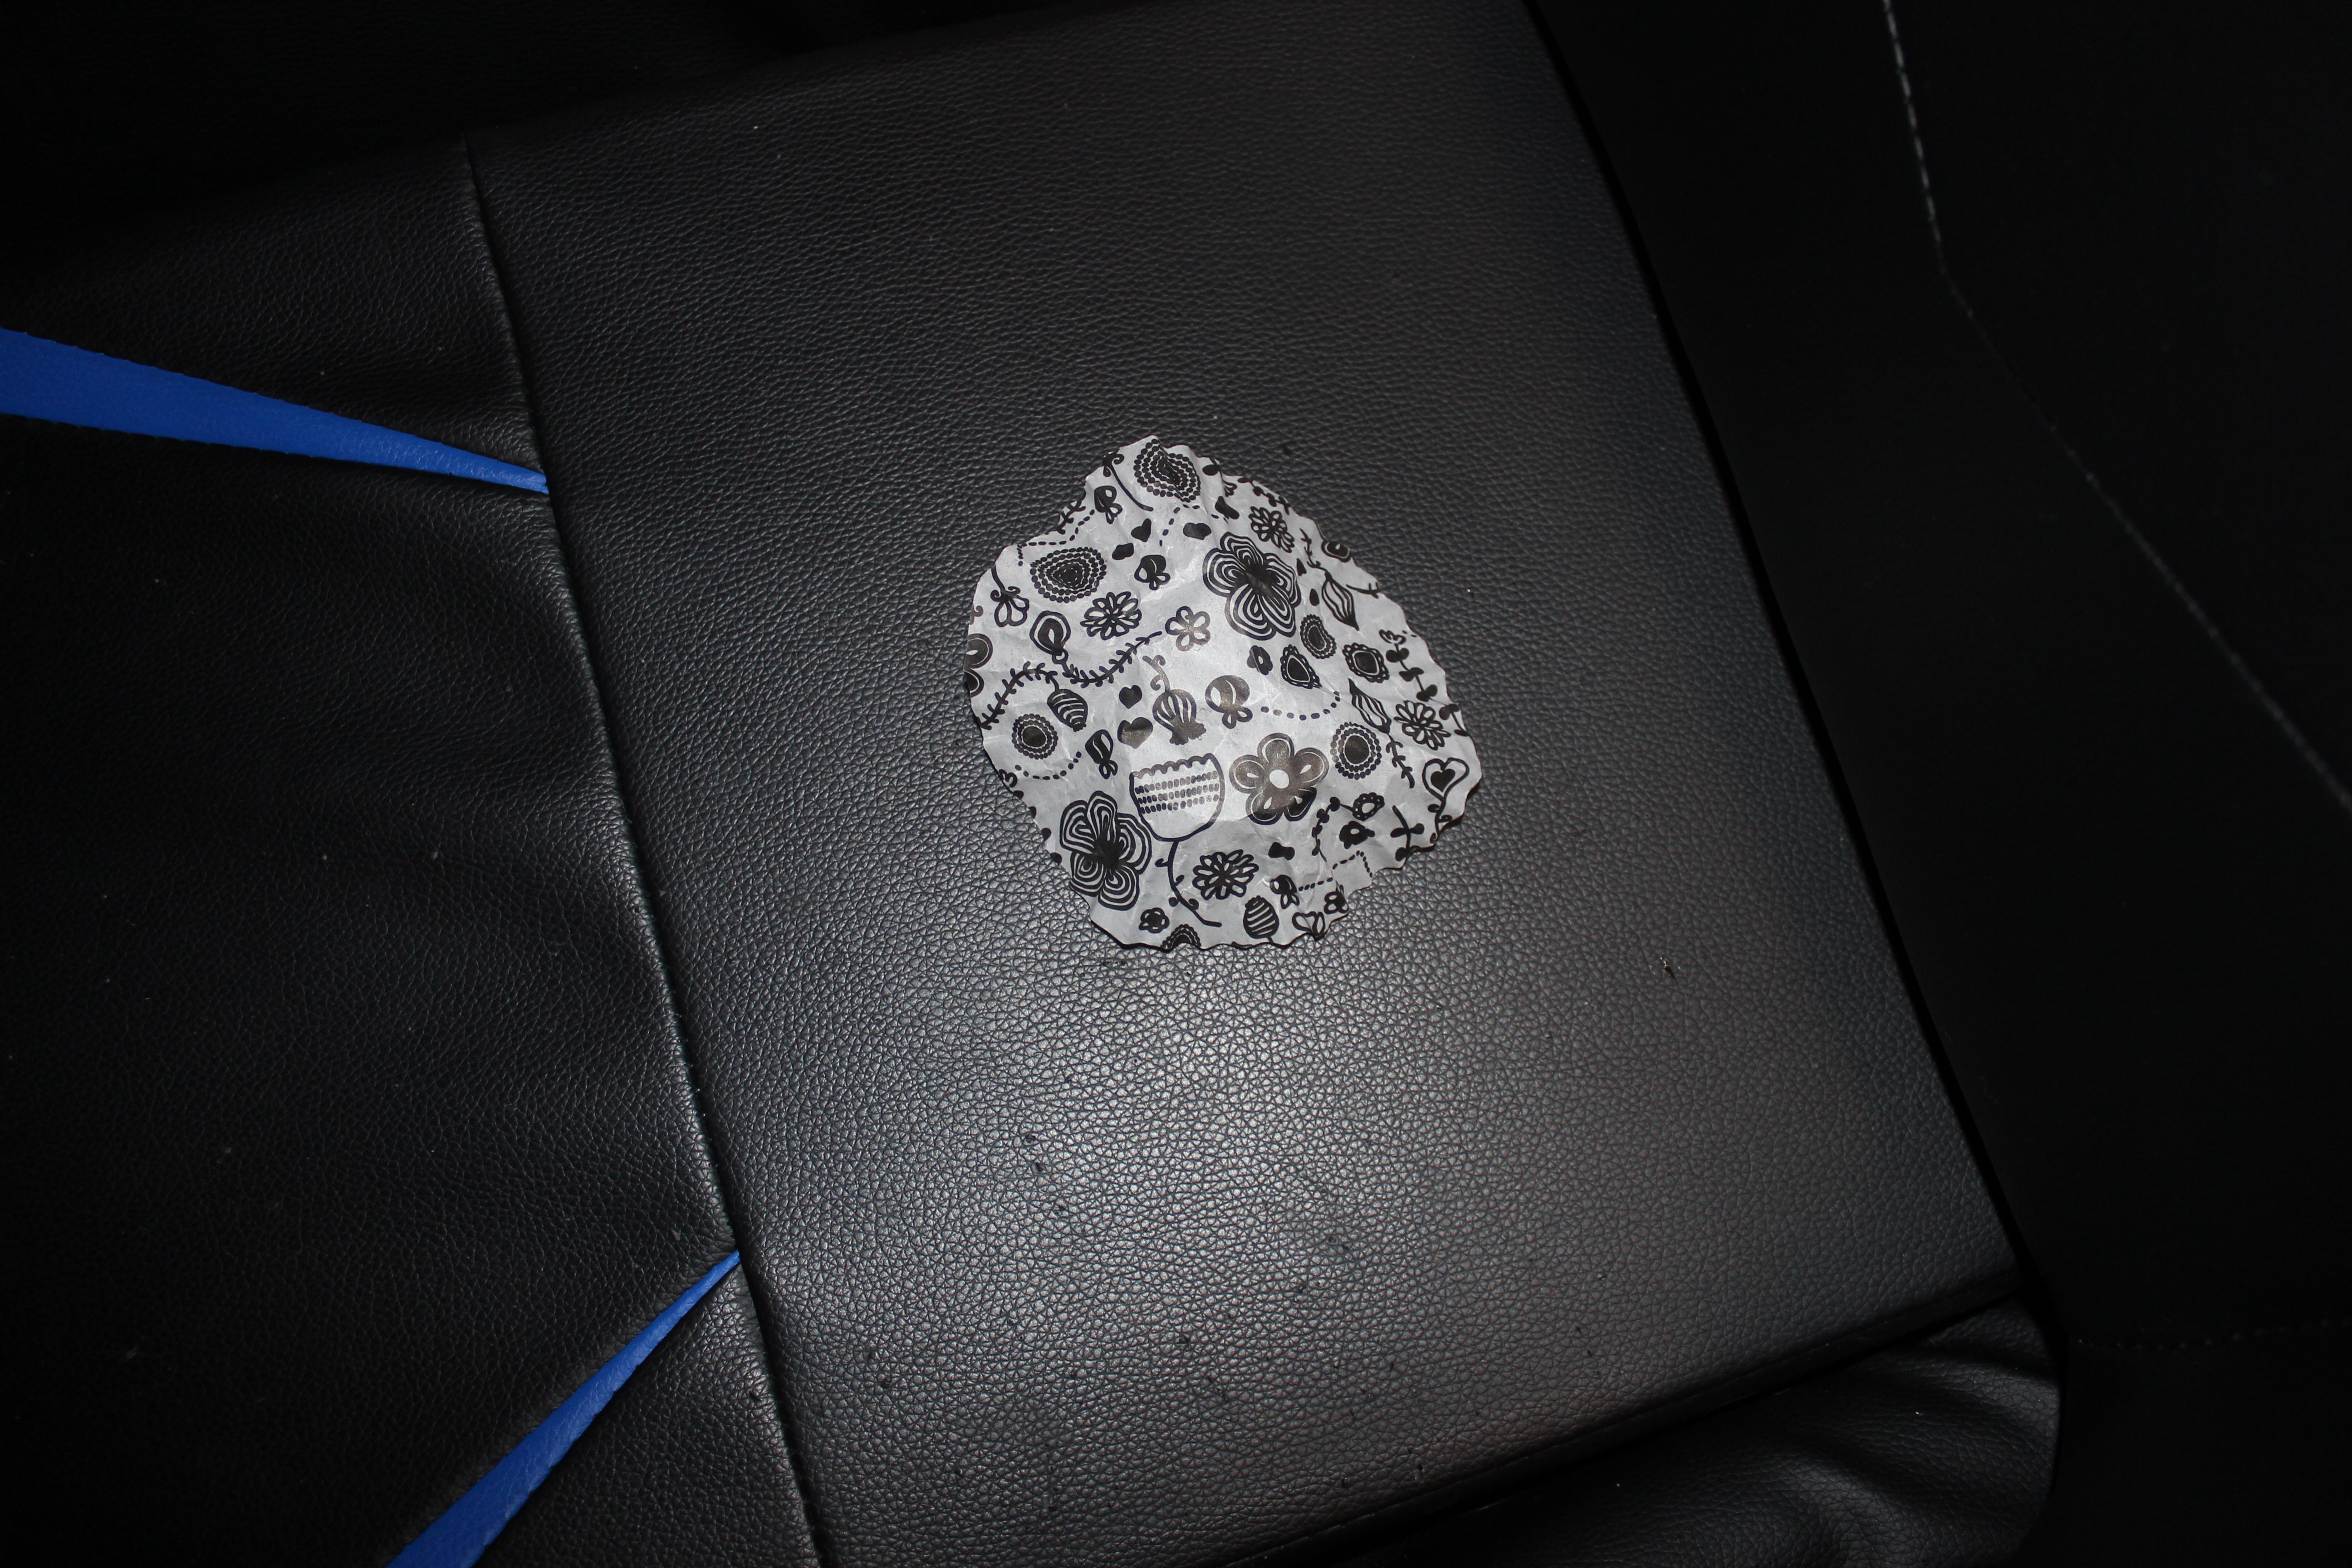cupcakePaper: (942, 416, 1515, 973)
